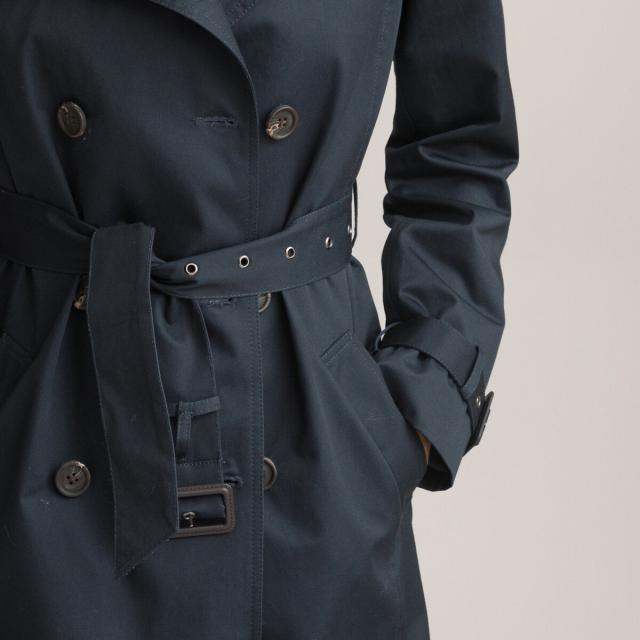coat: (0, 0, 522, 640)
